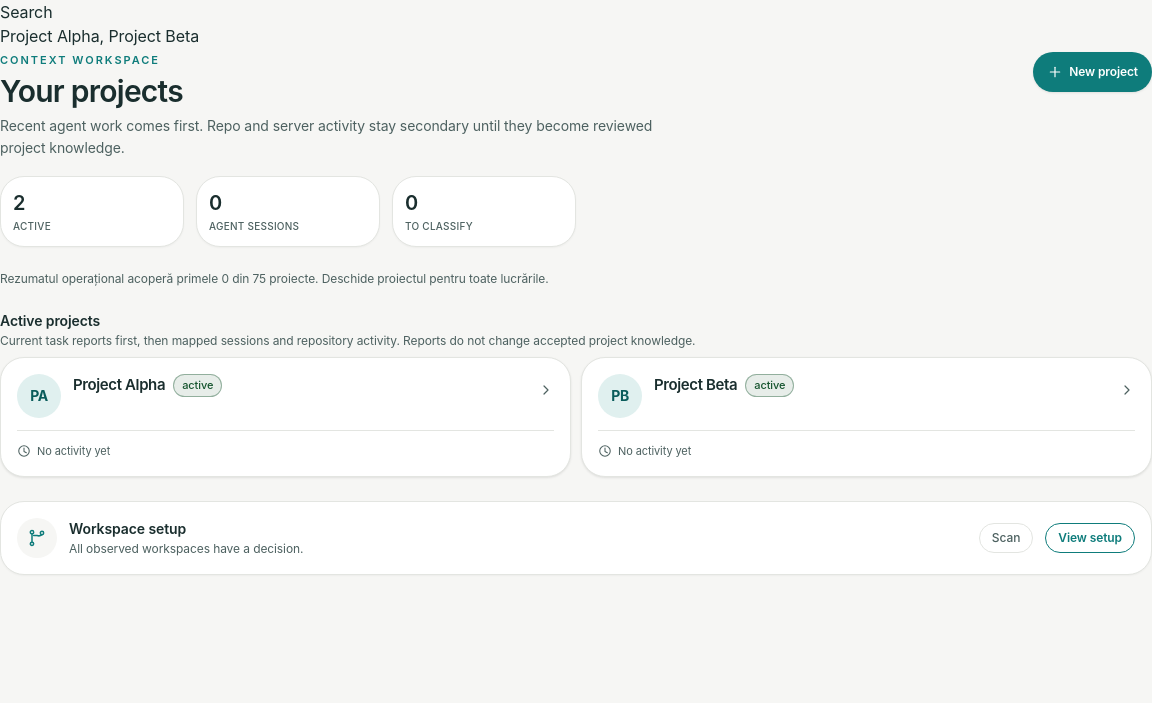
Scenario: shared project query and durable scoped search › refreshes the shared list after creating a project and preserves partial portfolio/error displays
Expected: the heading "Project Alpha" is shown, top-left (73, 374), bottom-right (165, 396)
Expected: the text "din 75 proiecte" is shown, top-left (0, 271), bottom-right (548, 286)
Click the button "New project" at (1093, 72), box top-left (1033, 52), bottom-right (1151, 92)
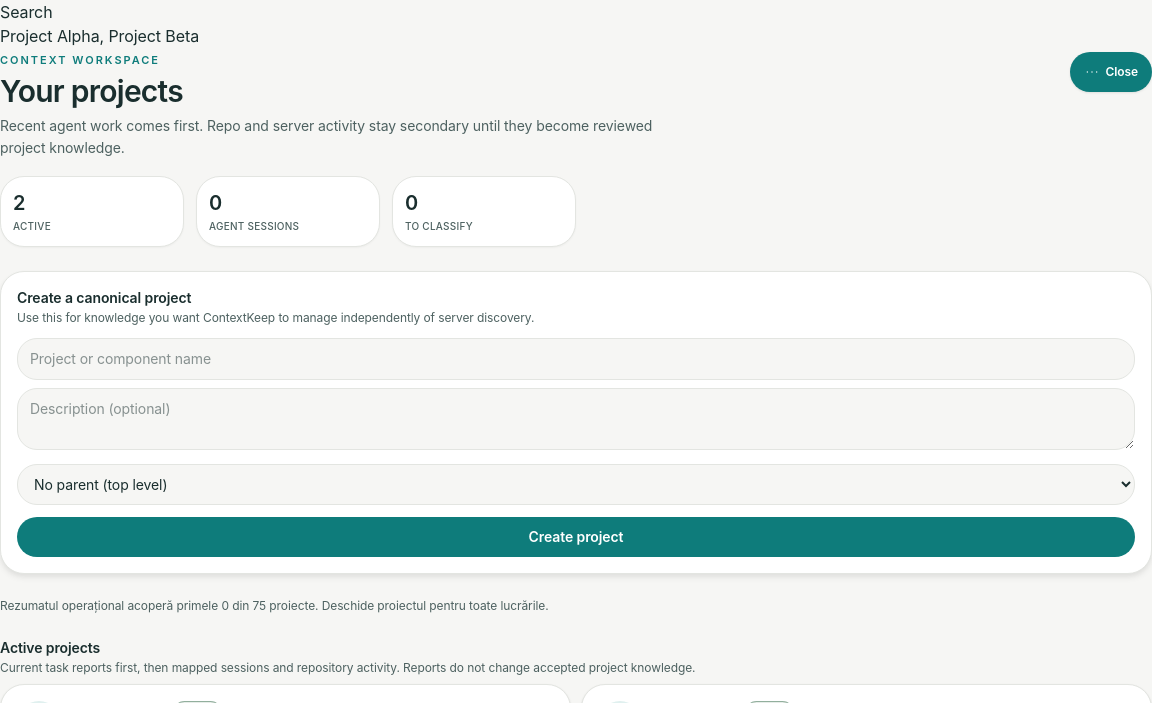
Type "Project Gamma" into the field with placeholder "Project or component name" at (576, 359), box top-left (17, 338), bottom-right (1135, 380)
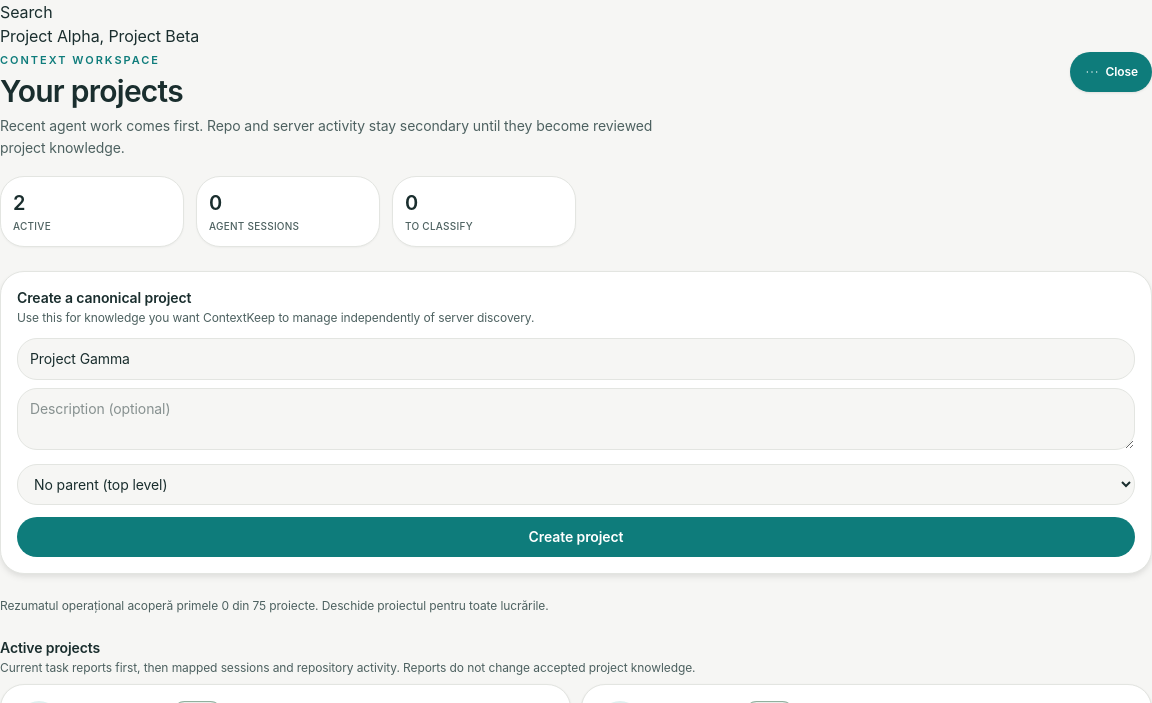
Click the button "Create project" at (576, 537), box top-left (17, 517), bottom-right (1135, 557)
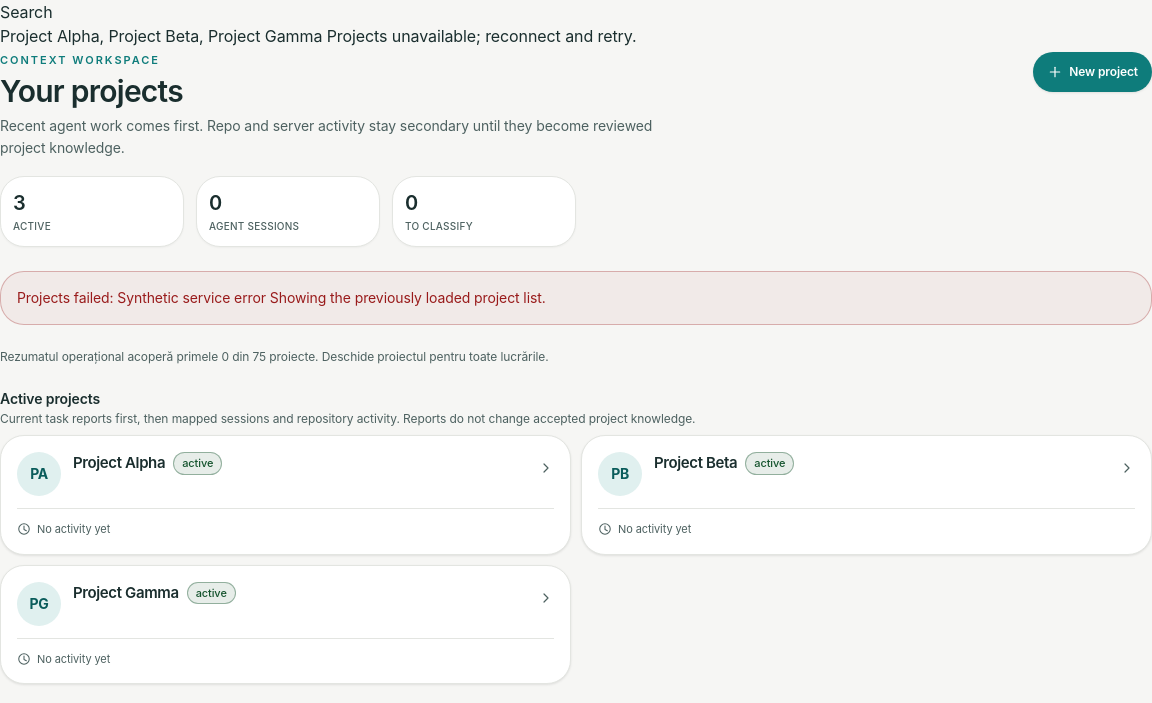
Expected: the text with test id "shell-projects" shows "Project Gamma", top-left (0, 26), bottom-right (322, 46)
Expected: the text "Showing the previously loaded project list" is shown, top-left (270, 289), bottom-right (546, 306)
Expected: the heading "Project Gamma" is shown, top-left (73, 582), bottom-right (179, 604)
